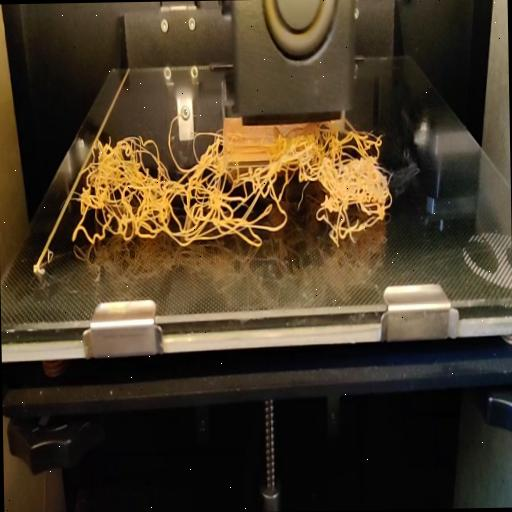spaghetti: (66, 118, 396, 252)
